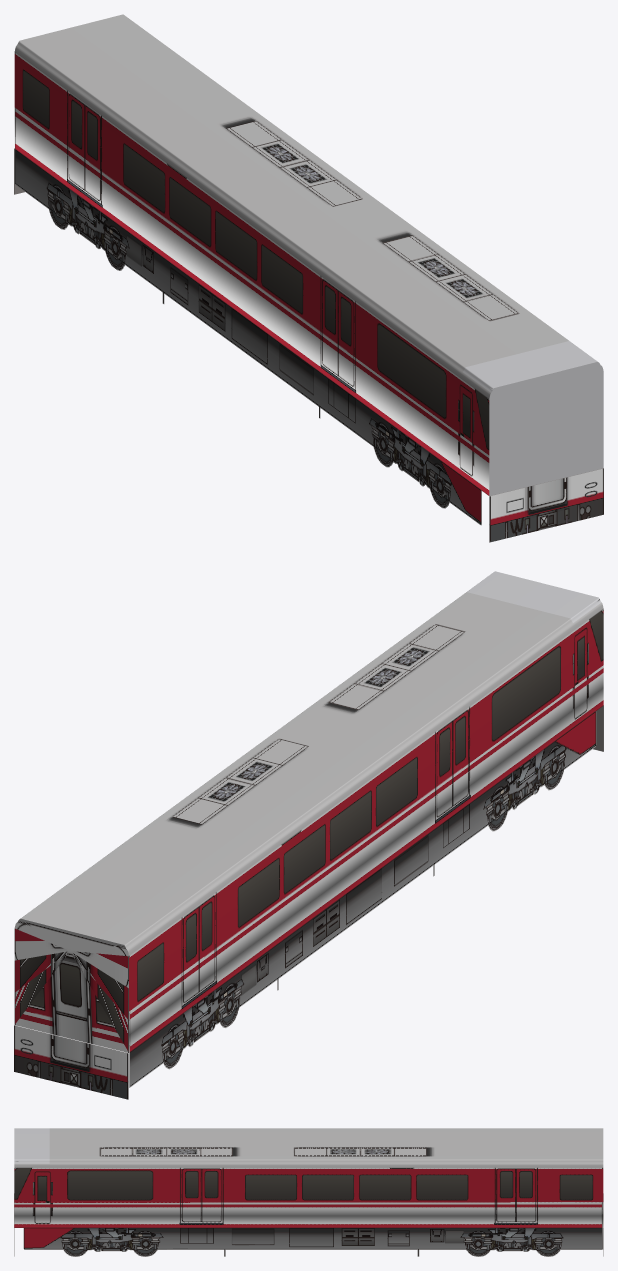
Rendered from car2.glb.
3 renders of one model, top to bottom at view 1: azimuth 30°, elevation 25°; view 2: azimuth 150°, elevation 25°; view 3: azimuth 270°, elevation 25°, orthographic. The views are drawn at different scales.
Visible parts, largest first — view 1: car2; view 2: car2; view 3: car2.
Part boxes in pixels (x1,y1,x2,y2): car2: (14,14,603,542); car2: (14,571,603,1099); car2: (14,1128,603,1256).
Bounding box in the file's own units: 2.72 × 3.49 × 19.54.
6 materials, 4 textured.
